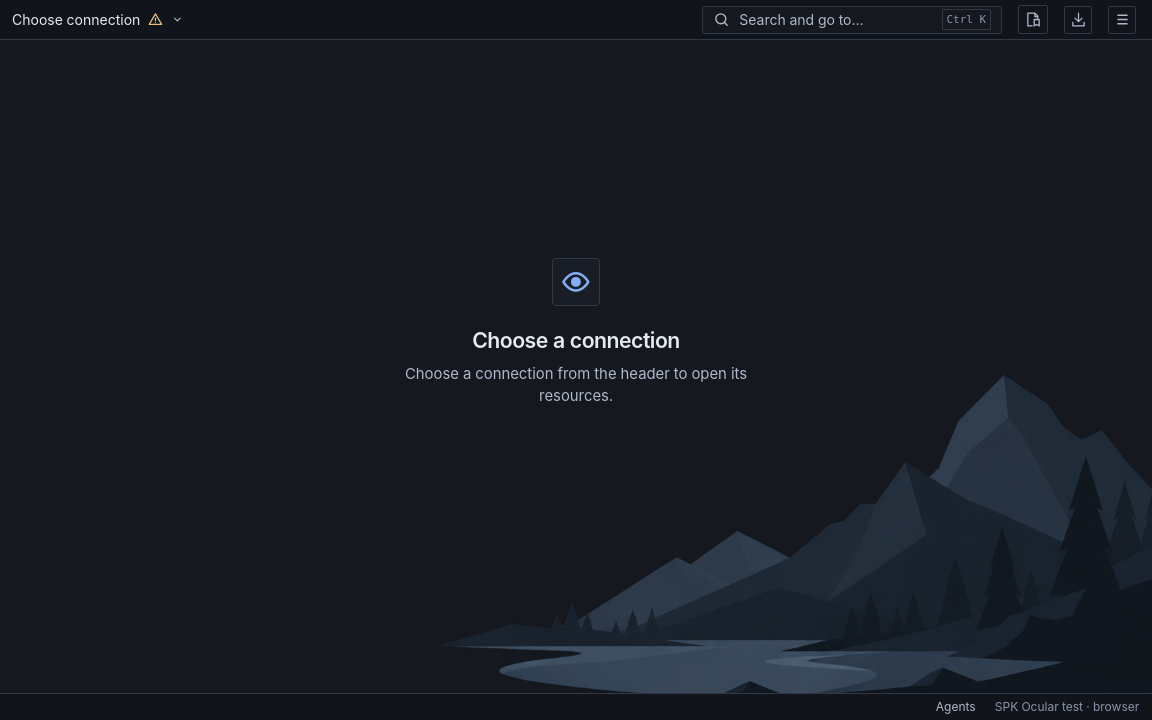
Test: App › shows unreadable kubeconfig files as a warning
What coordinates should you click on to do the following:
click the button with aria-label "Connections"
I would click on:
 (98, 20)
Its box is [4, 4, 192, 34].
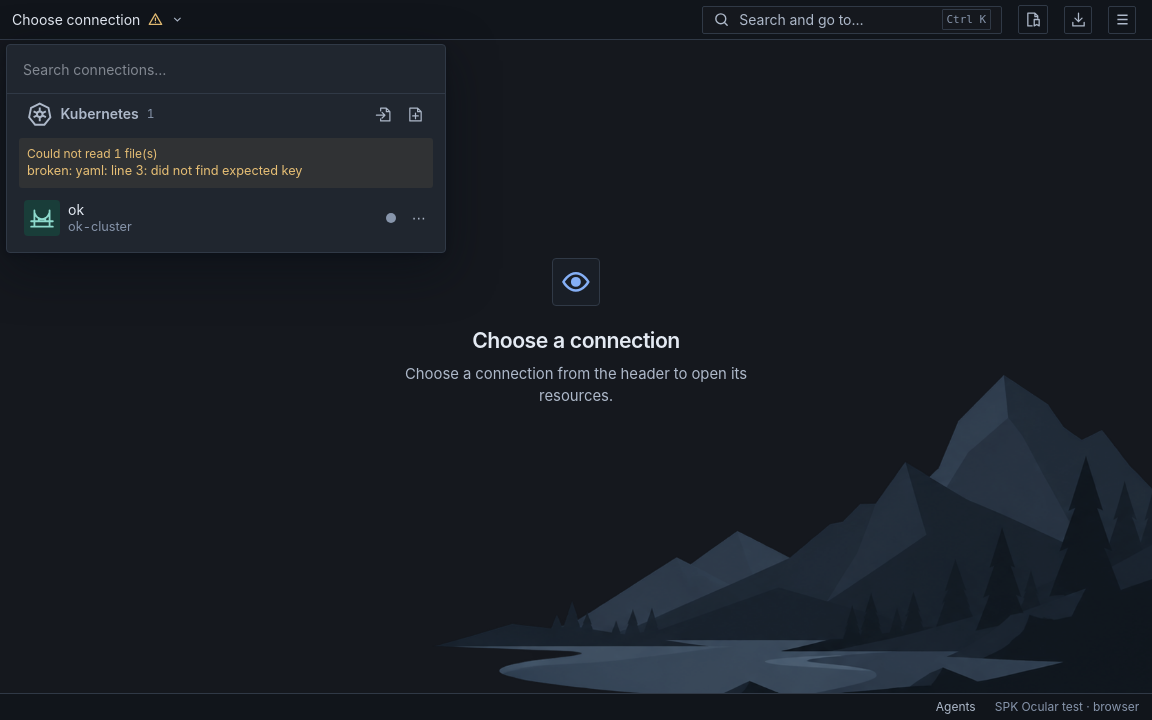
Now the message shows "Could not read 1 file(s)", box [27, 146, 158, 161]
Now the message shows "broken: yaml: line 3", box [27, 146, 302, 178]
